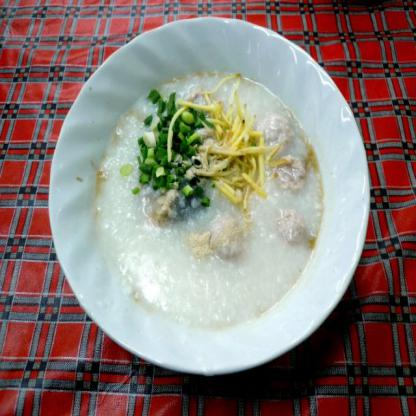Joke: (85, 46, 332, 342)
